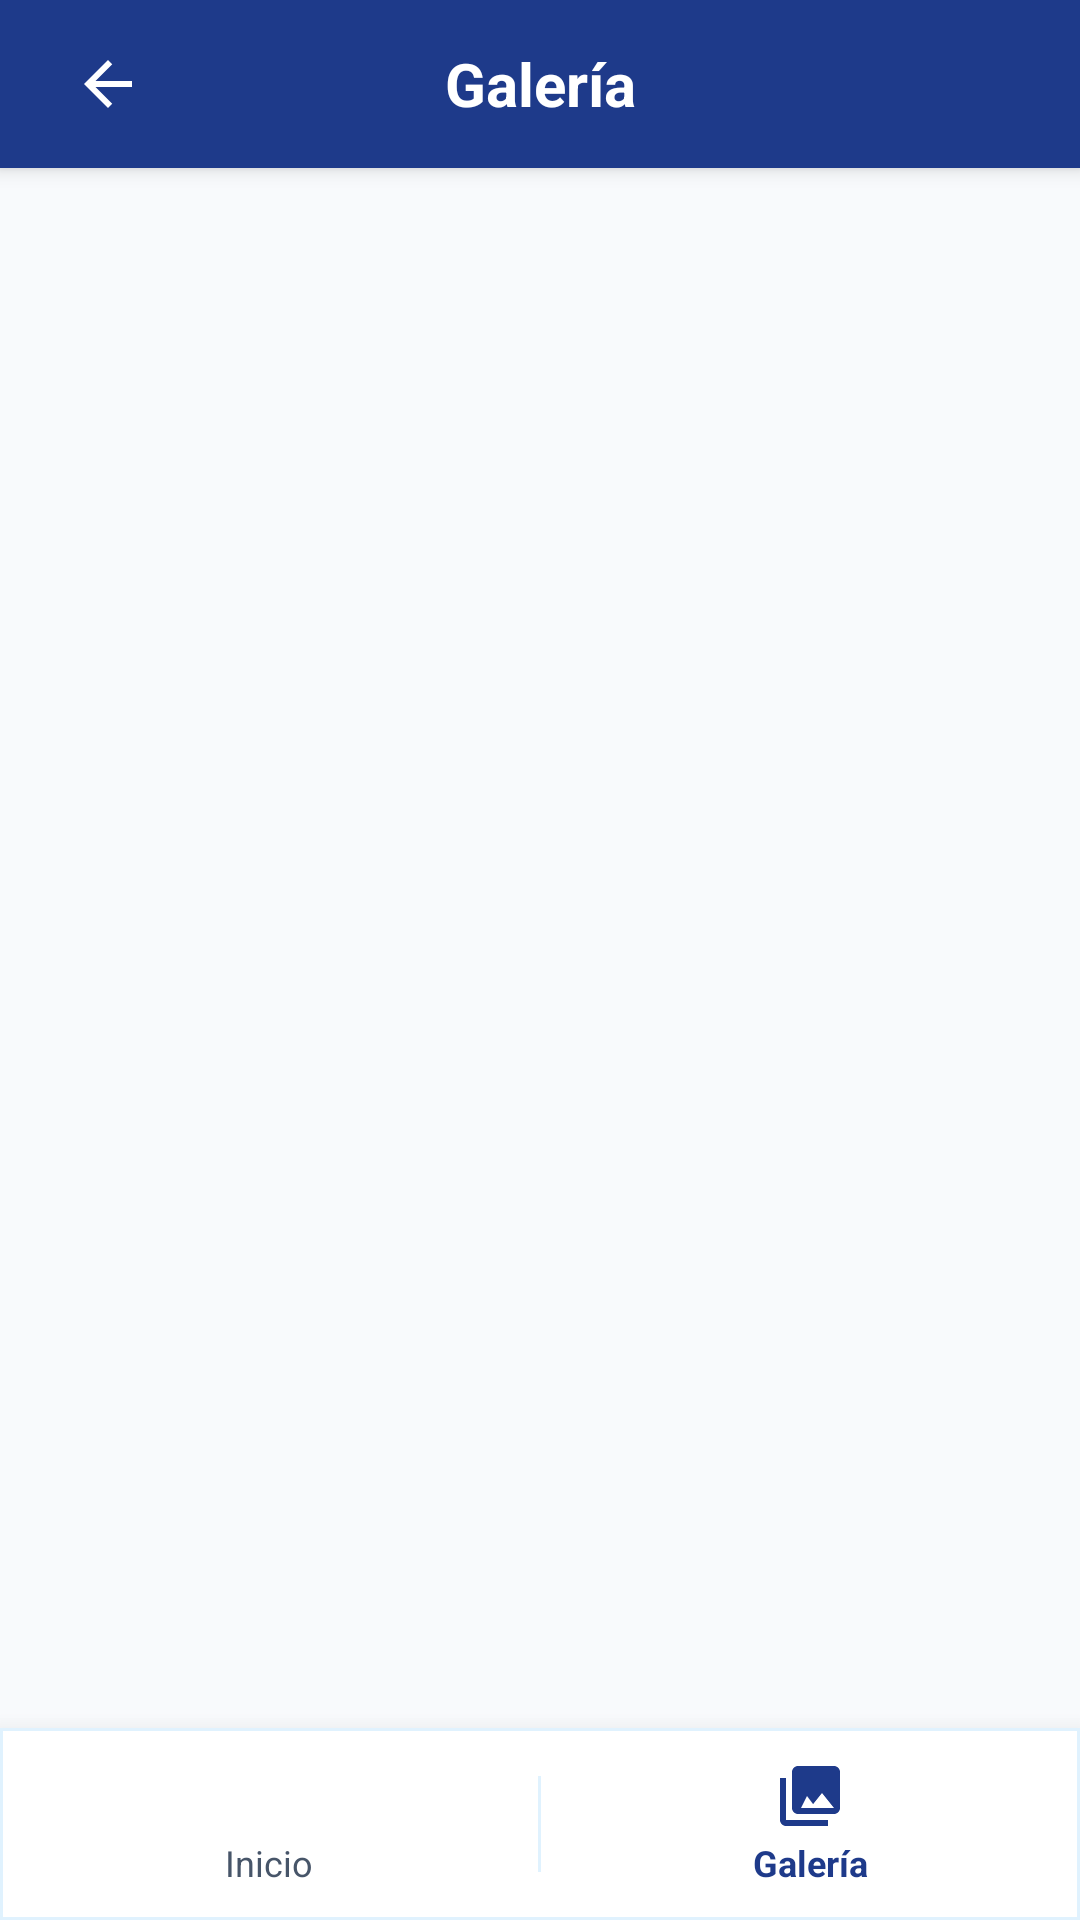

Point at icon controls on the screen. Image size 1080w x 1920h, points as [x,y].
Regresar: [108,84]
